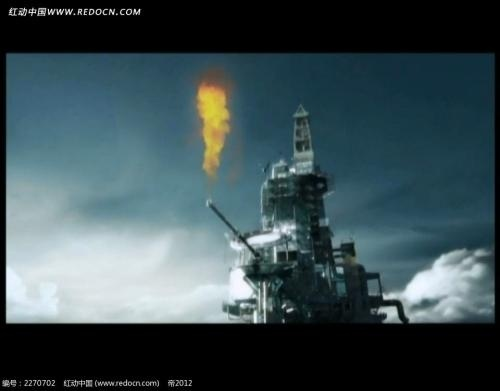fire: (196, 76, 233, 176)
